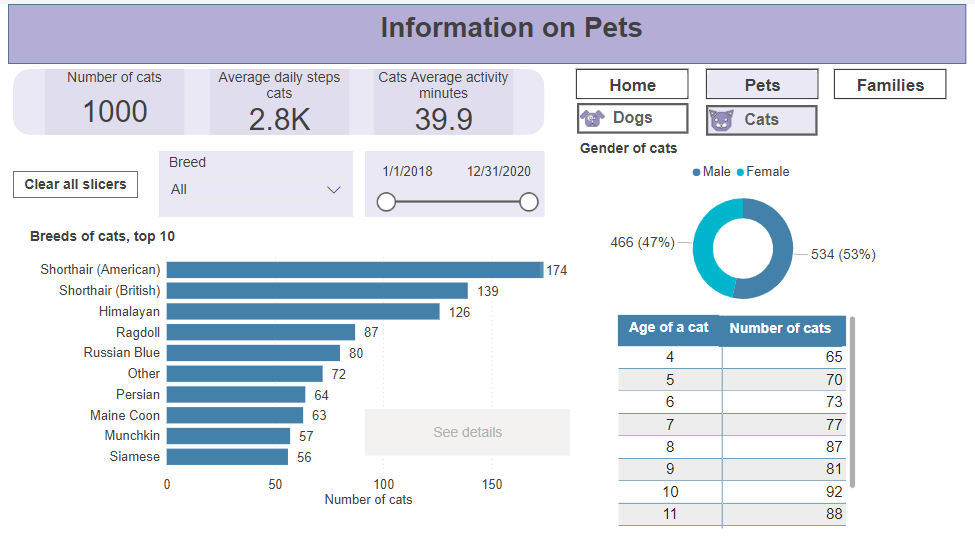

Layout of this report page (visuals, bound fields, positions):
{"tool":"powerbi","page":{"name":"Pets","canvas":[1280,720],"ordinal":1},"visuals":[{"type":"shape","box":[0,0,1280,80],"z":1000},{"type":"shape","box":[7.2,87,710.1,88.4],"z":2000},{"type":"textbox","title":"Text report","box":[459.9,5.7,426.8,67.5],"z":7000},{"type":"actionButton","title":"Home","box":[759.3,87.3,149.5,40.3],"z":8000},{"type":"actionButton","title":"Pets Info","box":[932.3,87.3,149.5,40.3],"z":9000},{"type":"actionButton","title":"Families Info","box":[1103.6,87.3,149.5,40.3],"z":10000},{"type":"clusteredBarChart","title":"Breeds of cats, top 10","fields":{"Category":["Pet_Data.Breed"],"Y":["CountNonNull(Pet_Data.Pet_ID)"]},"box":[24.4,298.9,747.3,378],"z":17000},{"type":"donutChart","title":"Gender of cats","fields":{"Category":["Pet_Data.Gender"],"Y":["CountNonNull(Pet_Data.Pet_ID)"]},"box":[758.8,181.1,445.5,235.7],"z":18000},{"type":"card","title":"Number of cats","fields":{"Values":["CountNonNull(Pet_Data.Dog/Cat)"]},"box":[49.3,87,185.5,88.4],"z":19000},{"type":"card","title":"Average daily steps cats","fields":{"Values":["Avg(Tracker_Data.Daily_Steps)"]},"box":[269.6,87,185.5,88.4],"z":20000},{"type":"card","title":"Cats Average activity minutes","fields":{"Values":["Avg(Tracker_Data.Activity_Minutes)"]},"box":[488.4,87,185.5,88.4],"z":21000},{"type":"actionButton","title":"Dogs Off","box":[759.4,131.9,149.3,40.6],"z":22000},{"type":"actionButton","title":"Cats off","box":[931.9,134.8,149.3,40.6],"z":23000},{"type":"tableEx","title":"Age of cats table","fields":{"Values":["Pet_Data.Age","Pet_Data.Pet_ID"]},"box":[810.1,411.6,327.5,294.2],"z":24000},{"type":"textbox","title":"Text age of cats","box":[815.2,415.3,135,41],"z":25000},{"type":"slicer","fields":{"Values":["Pet_Data.Breed"]},"box":[201.2,196.9,258.7,87.7],"z":26000},{"type":"textbox","title":"Text age of cats","box":[950.2,417,164.1,41],"z":27000},{"type":"actionButton","box":[7.2,222.8,166.7,35.9],"z":29000},{"type":"slicer","fields":{"Values":["Date_Table.Date"]},"box":[477.1,196.9,240,87.7],"z":30000},{"type":"actionButton","box":[477.1,540.4,274.5,61.8],"z":31000}]}

Visuals, with their boxes in screenshot pixels (x1, y1, x2, y2), scaled from the page's 1280x720 canvas onto the 975x536 screenshot:
shape: pyautogui.locateOnScreen(0, 0, 974, 60)
shape: pyautogui.locateOnScreen(5, 65, 546, 131)
"Text report" textbox: pyautogui.locateOnScreen(350, 4, 675, 54)
"Home" actionButton: pyautogui.locateOnScreen(578, 65, 692, 95)
"Pets Info" actionButton: pyautogui.locateOnScreen(710, 65, 824, 95)
"Families Info" actionButton: pyautogui.locateOnScreen(841, 65, 955, 95)
"Breeds of cats, top 10" clusteredBarChart: pyautogui.locateOnScreen(19, 223, 588, 504)
"Gender of cats" donutChart: pyautogui.locateOnScreen(578, 135, 917, 310)
"Number of cats" card: pyautogui.locateOnScreen(38, 65, 179, 131)
"Average daily steps cats" card: pyautogui.locateOnScreen(205, 65, 347, 131)
"Cats Average activity minutes" card: pyautogui.locateOnScreen(372, 65, 513, 131)
"Dogs Off" actionButton: pyautogui.locateOnScreen(578, 98, 692, 128)
"Cats off" actionButton: pyautogui.locateOnScreen(710, 100, 824, 131)
"Age of cats table" tableEx: pyautogui.locateOnScreen(617, 306, 867, 525)
"Text age of cats" textbox: pyautogui.locateOnScreen(621, 309, 724, 340)
slicer - Pet_Data.Breed: pyautogui.locateOnScreen(153, 147, 350, 212)
"Text age of cats" textbox: pyautogui.locateOnScreen(724, 310, 849, 341)
actionButton: pyautogui.locateOnScreen(5, 166, 132, 193)
slicer - Date_Table.Date: pyautogui.locateOnScreen(363, 147, 546, 212)
actionButton: pyautogui.locateOnScreen(363, 402, 573, 448)
